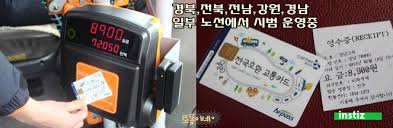terminal: (59, 4, 161, 128)
